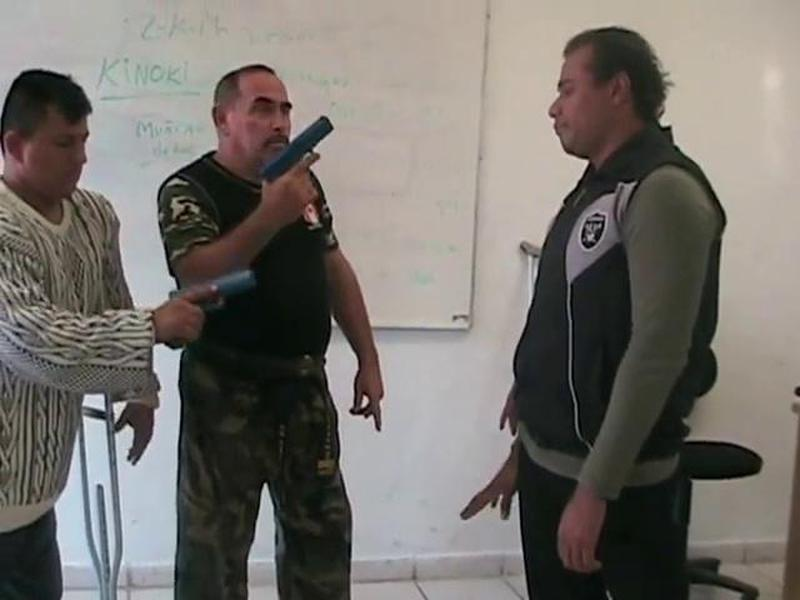Pistola: (256, 104, 345, 217), (134, 262, 256, 342)
